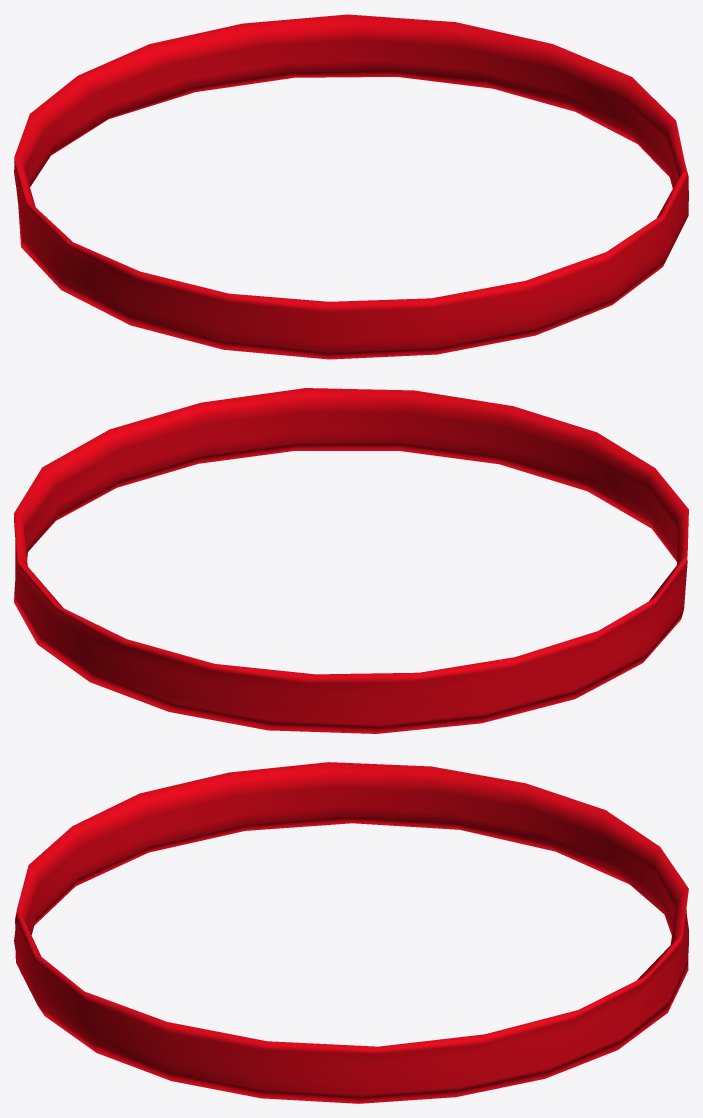
3 renders of one model, top to bottom at view 1: azimuth 30°, elevation 25°; view 2: azimuth 150°, elevation 25°; view 3: azimuth 270°, elevation 25°, orthographic.
Visible parts, largest first — view 1: Cylinder; view 2: Cylinder; view 3: Cylinder.
Part boxes in pixels (left/top/right/bottom): Cylinder: left=14, top=14, right=688, bottom=359; Cylinder: left=14, top=388, right=688, bottom=733; Cylinder: left=14, top=762, right=688, bottom=1103.
Bounding box in the file's own units: 574 × 57.1 × 572.
